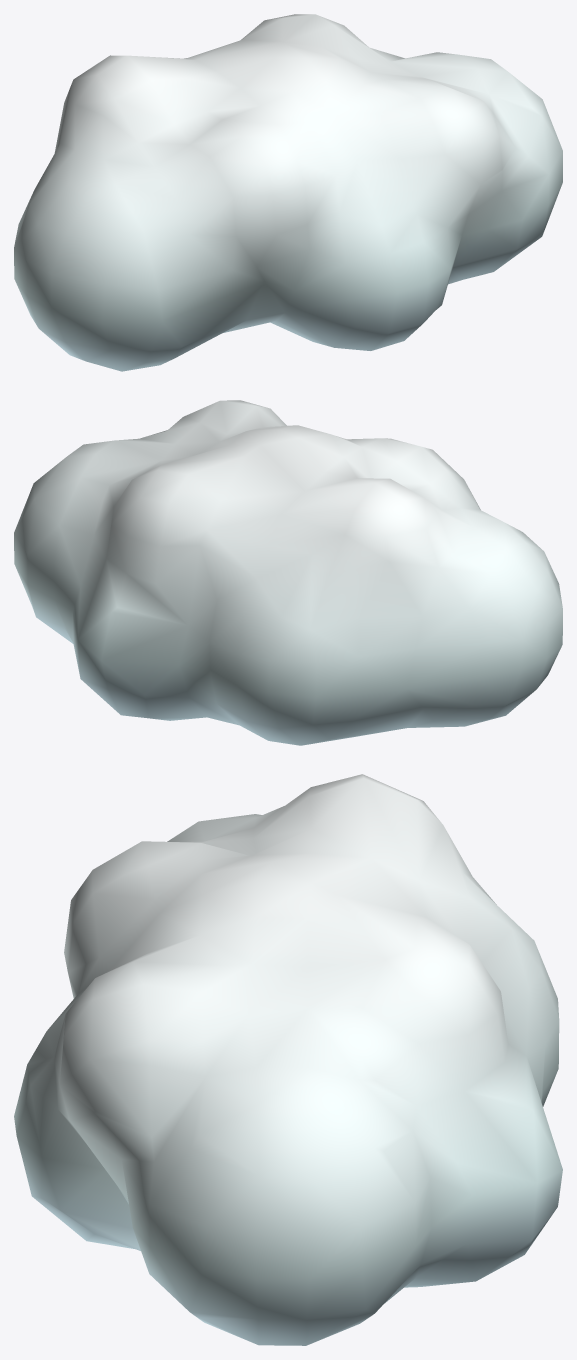
The model's file is cloud.fbx.
3 renders of one model, top to bottom at view 1: azimuth 30°, elevation 25°; view 2: azimuth 150°, elevation 25°; view 3: azimuth 270°, elevation 25°, orthographic. The views are drawn at different scales.
Visible parts, largest first — view 1: Cloud; view 2: Cloud; view 3: Cloud.
Boxes of the visible parts, x1,y1,x2,y2 form: Cloud: (14,14,562,371); Cloud: (14,400,562,745); Cloud: (14,774,562,1345).
Bounding box in the file's own units: 336 × 167 × 222.
Materials: 1 (1 with a texture image).
